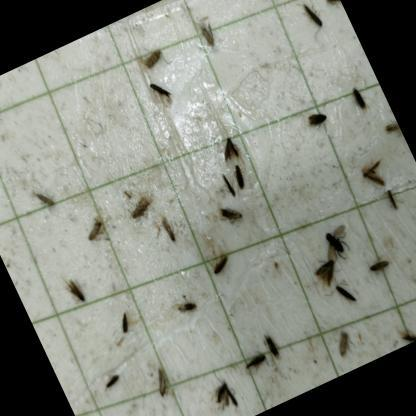prays_oleae: (200, 366, 246, 416), (305, 245, 347, 296), (352, 148, 394, 198), (205, 124, 248, 172), (130, 38, 173, 80), (346, 81, 379, 128), (362, 249, 399, 290), (326, 321, 360, 365), (201, 243, 239, 281), (31, 184, 64, 224), (237, 344, 273, 380), (118, 189, 154, 225), (294, 0, 327, 36), (60, 274, 92, 309), (149, 368, 180, 404), (332, 276, 363, 312), (376, 184, 406, 221), (230, 163, 258, 201), (194, 15, 224, 50), (380, 113, 408, 150), (216, 198, 246, 232), (176, 290, 206, 320), (217, 167, 242, 202), (146, 76, 174, 106), (156, 214, 182, 246), (116, 310, 142, 340), (96, 366, 124, 393), (306, 103, 332, 131), (318, 0, 348, 23), (259, 330, 281, 360), (82, 223, 110, 245), (394, 322, 416, 347)
